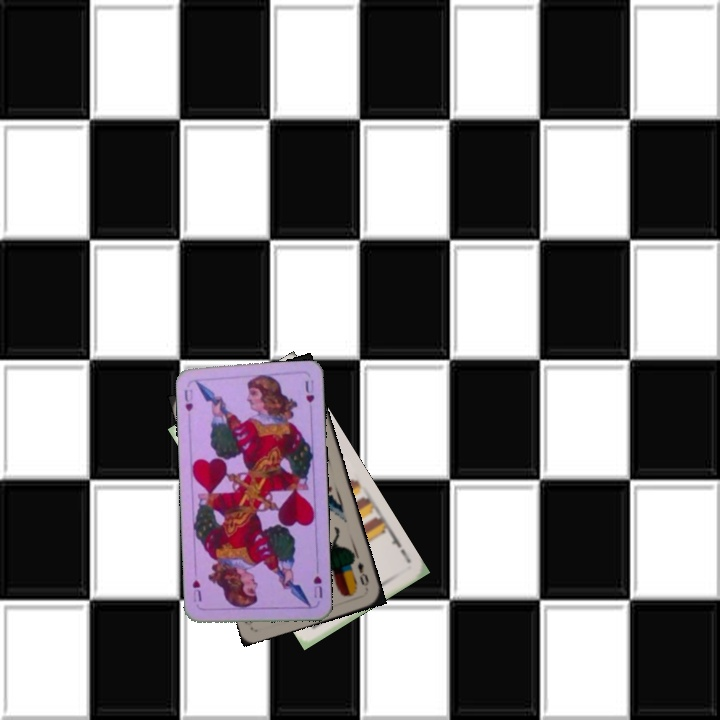E7: (387, 529, 414, 565)
EO: (353, 558, 372, 589)
HU: (309, 572, 325, 601), (180, 385, 196, 414)
